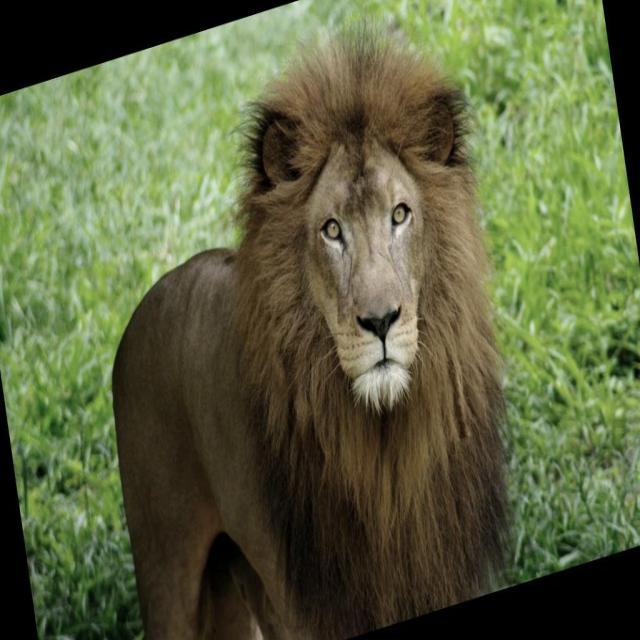Lion: (67, 0, 544, 639)
